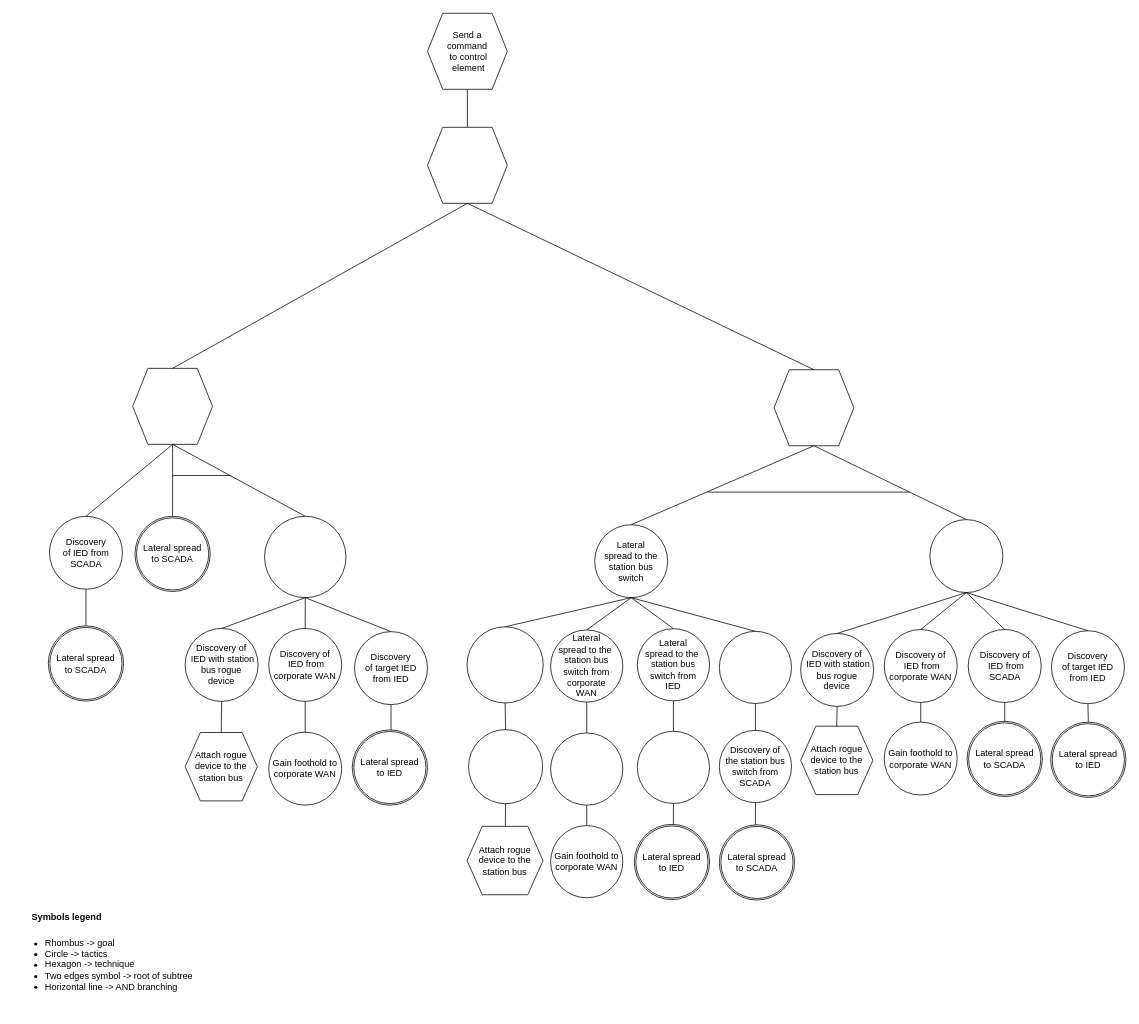
Some shapes in this 1139 by 1024 pixel diagram are drawn without their labels. The centre of each missing label's shape, as x and y in pixels:
"Directly send a command to IED" goes at point 467,165.
"Directly send a command to IED from SCADA" goes at point 172,406.
"Directly send a command to IED from station bus switch" goes at point 813,407.
"Discovery of IED's station bus network intarface" goes at point 966,556.
"Discovery of target IED's station bus network intarface not form SCADA" goes at point 305,557.
"Discovery of the station bus switch from corporate WAN" goes at point 586,768.
"Discovery of the station bus switch from IED" goes at point 673,767.
"Discovery of the station bus switch from the station bus device" goes at point 505,766.
"Lateral spread to the station bus switch from SCADA" goes at point 755,667.
"Lateral spread to the station bus switch from the station bus rogue device" goes at point 504,664.
